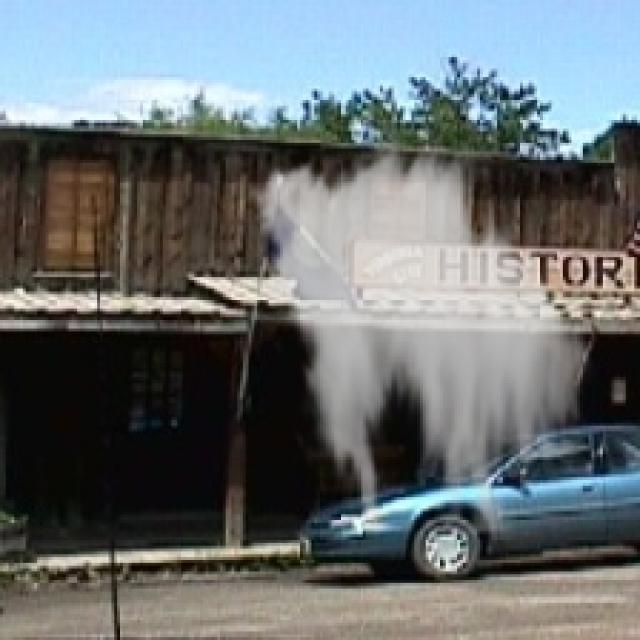smoke: (240, 132, 600, 534)
